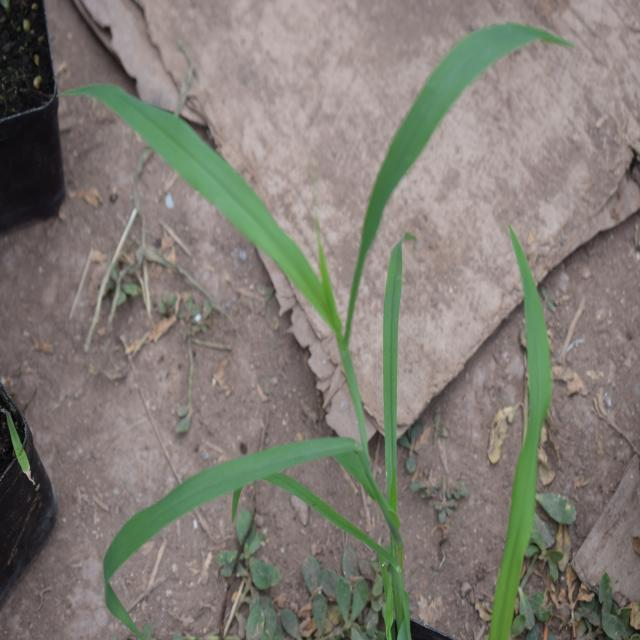crabgrass: (107, 42, 484, 566)
